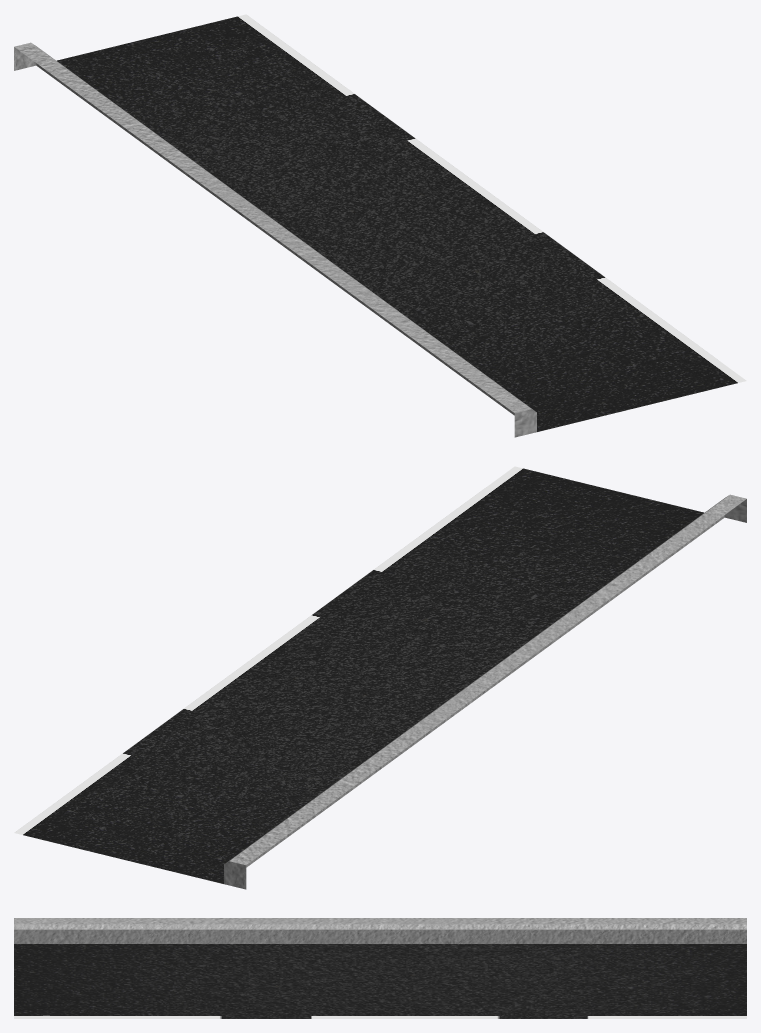
The model's file is roadRight.fbx.
3 renders of one model, top to bottom at view 1: azimuth 30°, elevation 25°; view 2: azimuth 150°, elevation 25°; view 3: azimuth 270°, elevation 25°, orthographic. The views are drawn at different scales.
Visible parts, largest first — view 1: roadRight; view 2: roadRight; view 3: roadRight.
Boxes of the visible parts, x1,y1,x2,y2 form: roadRight: (14,14,746,437); roadRight: (14,466,746,889); roadRight: (14,918,746,1018).
Size of the model in its own units: 559 by 55.91 by 2087.
1 material, 1 textured.
